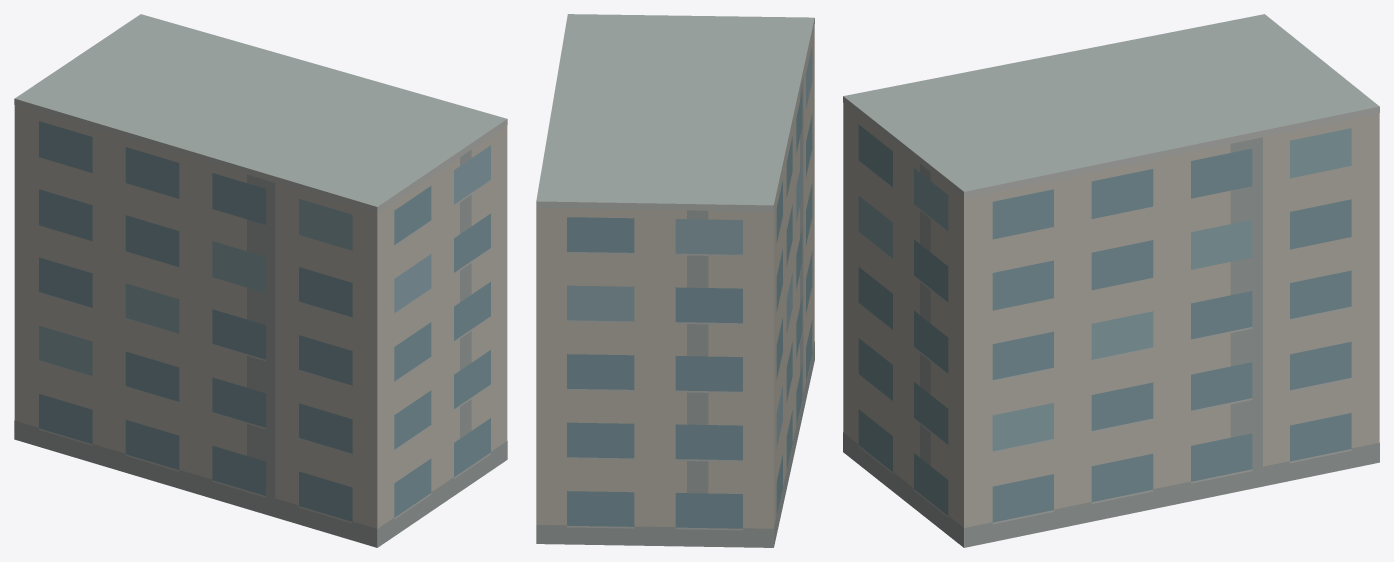
Rendered from survey-upis-32887565.glb.
3 renders of one model, left to right at view 1: azimuth 30°, elevation 25°; view 2: azimuth 150°, elevation 25°; view 3: azimuth 270°, elevation 25°, orthographic. The views are drawn at different scales.
Visible parts, largest first — view 1: survey-upis-32887565.tmp; view 2: survey-upis-32887565.tmp; view 3: survey-upis-32887565.tmp.
Part boxes in pixels (x1,y1,x2,y2): survey-upis-32887565.tmp: [14, 14, 507, 547]; survey-upis-32887565.tmp: [536, 14, 814, 547]; survey-upis-32887565.tmp: [843, 14, 1379, 547].
Size of the model in its own units: 13.94 by 13 by 17.77.
